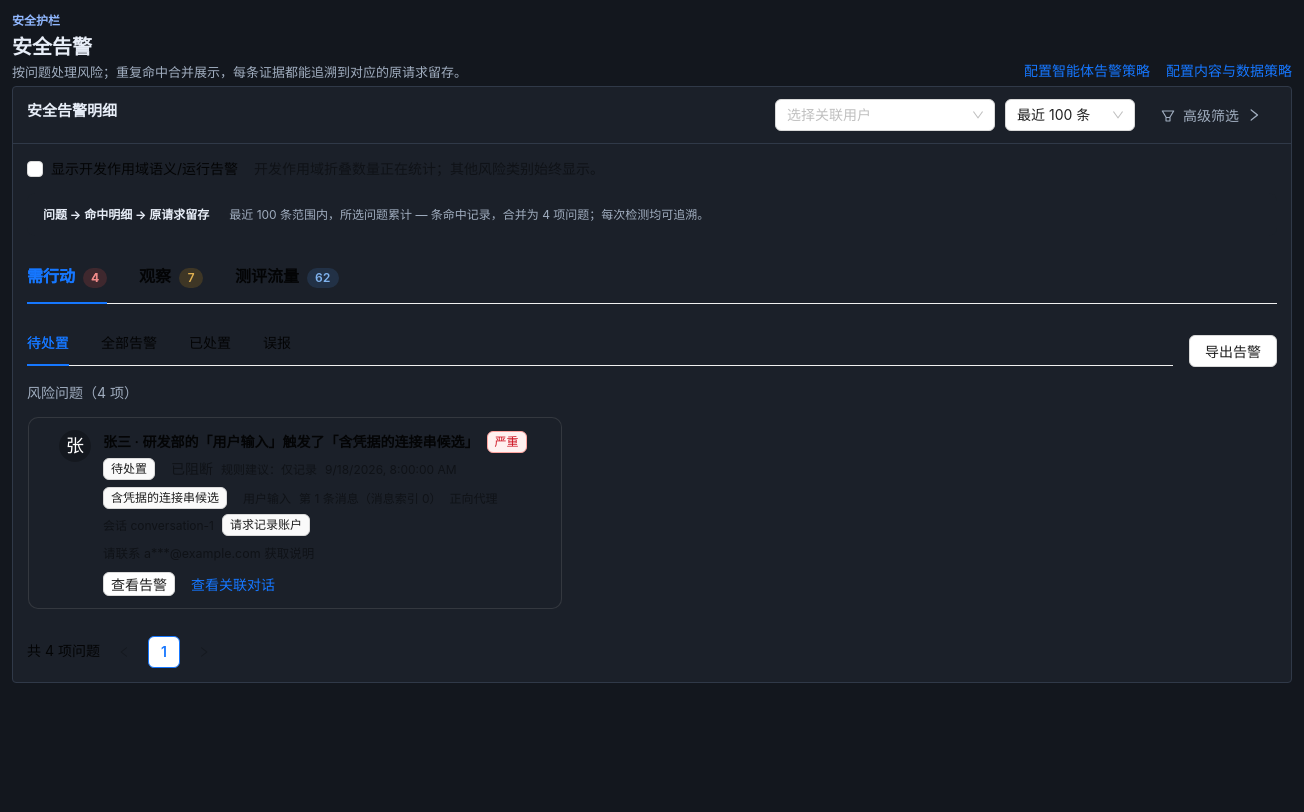
individual security alert occurrences › processing lanes › requests the chosen lane from the server instead of filtering the page locally
Click the tab "测评流量 62" at (287, 276), box [235,264,338,288]
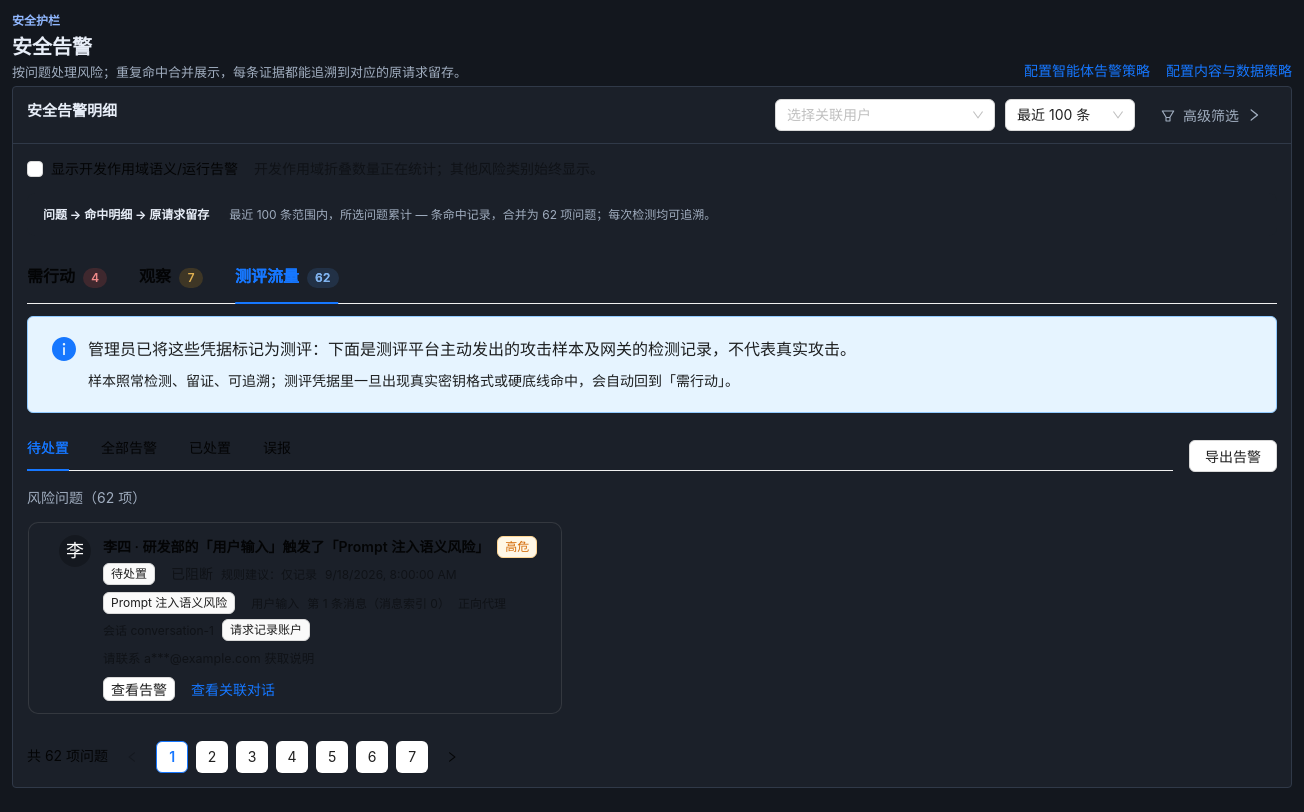
Now the button with test id "alert-card-real" is gone
